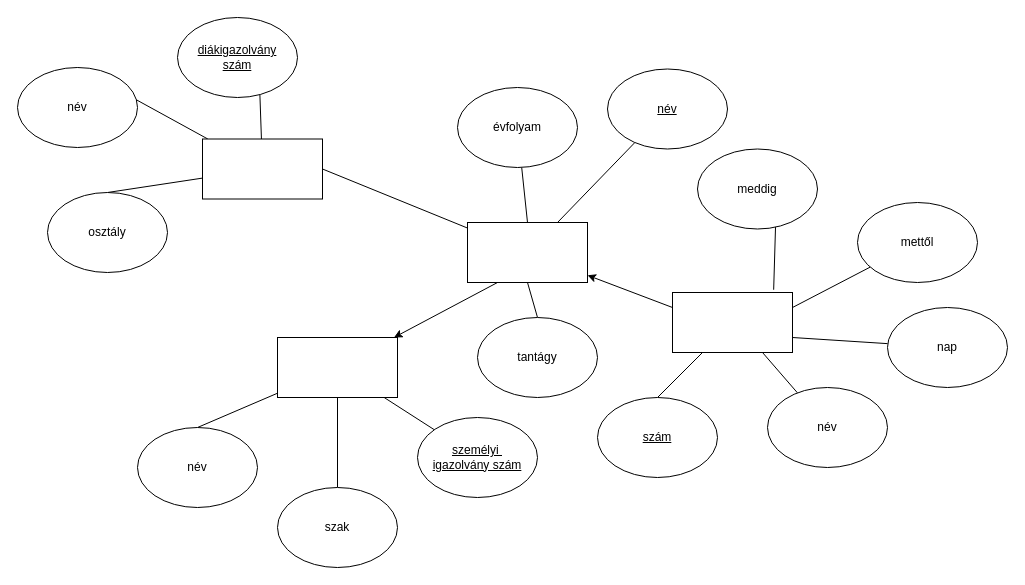
Some shapes in this 1025 by 585 pixel diagram are drawn without their labels. Each missing label, with the box of its shape:
Csoport: (466, 222, 588, 282)
Diák: (202, 138, 322, 199)
Tanár: (276, 336, 398, 398)
Terem: (672, 292, 792, 352)
